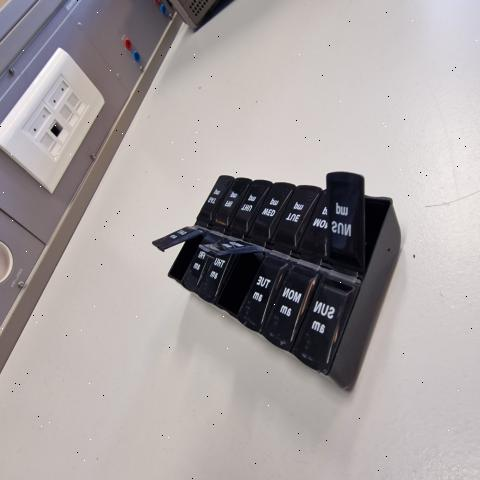Open: (214, 253, 264, 316), (363, 178, 390, 273), (164, 235, 204, 281)
